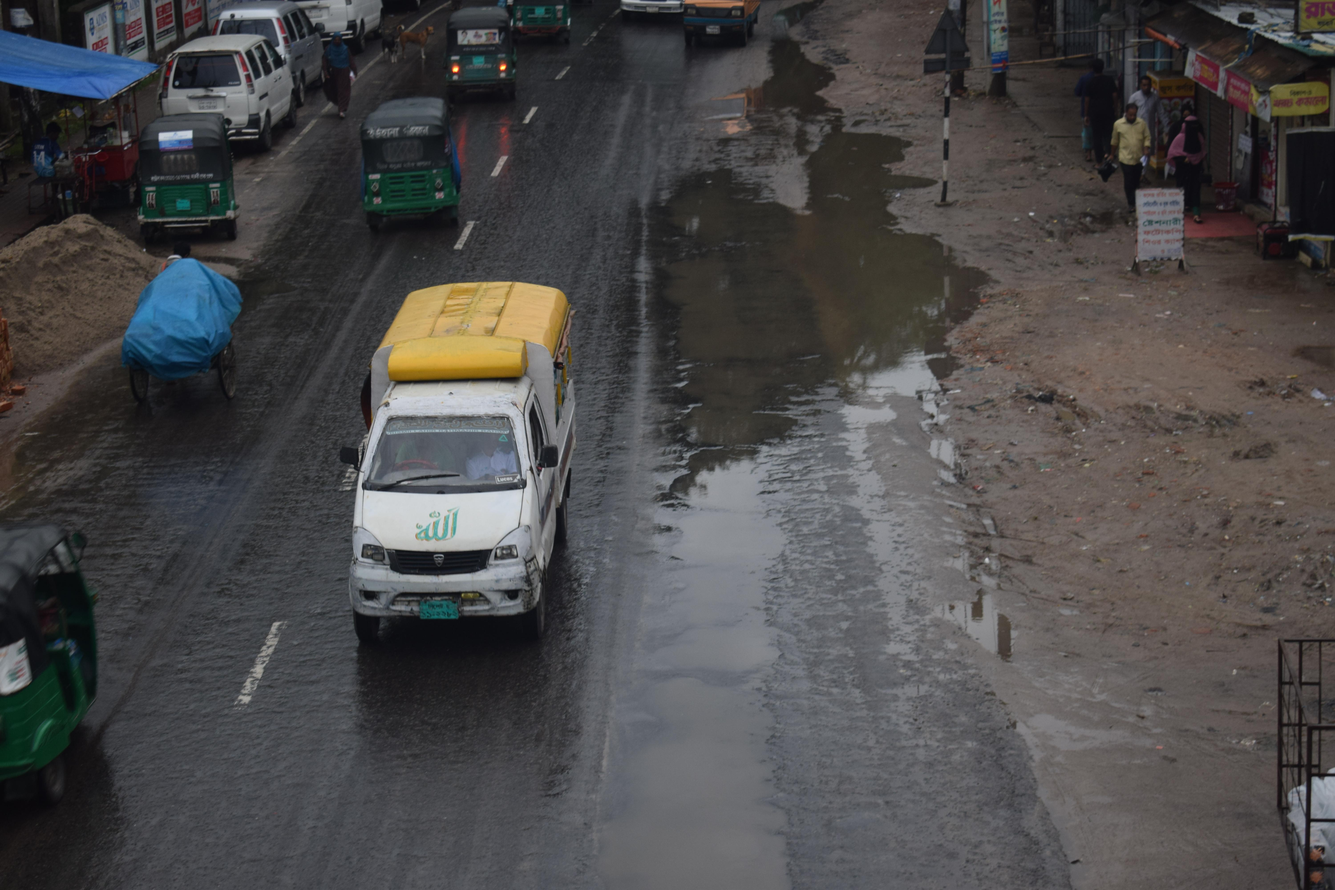Car: (282, 261, 595, 672), (153, 28, 321, 167)
